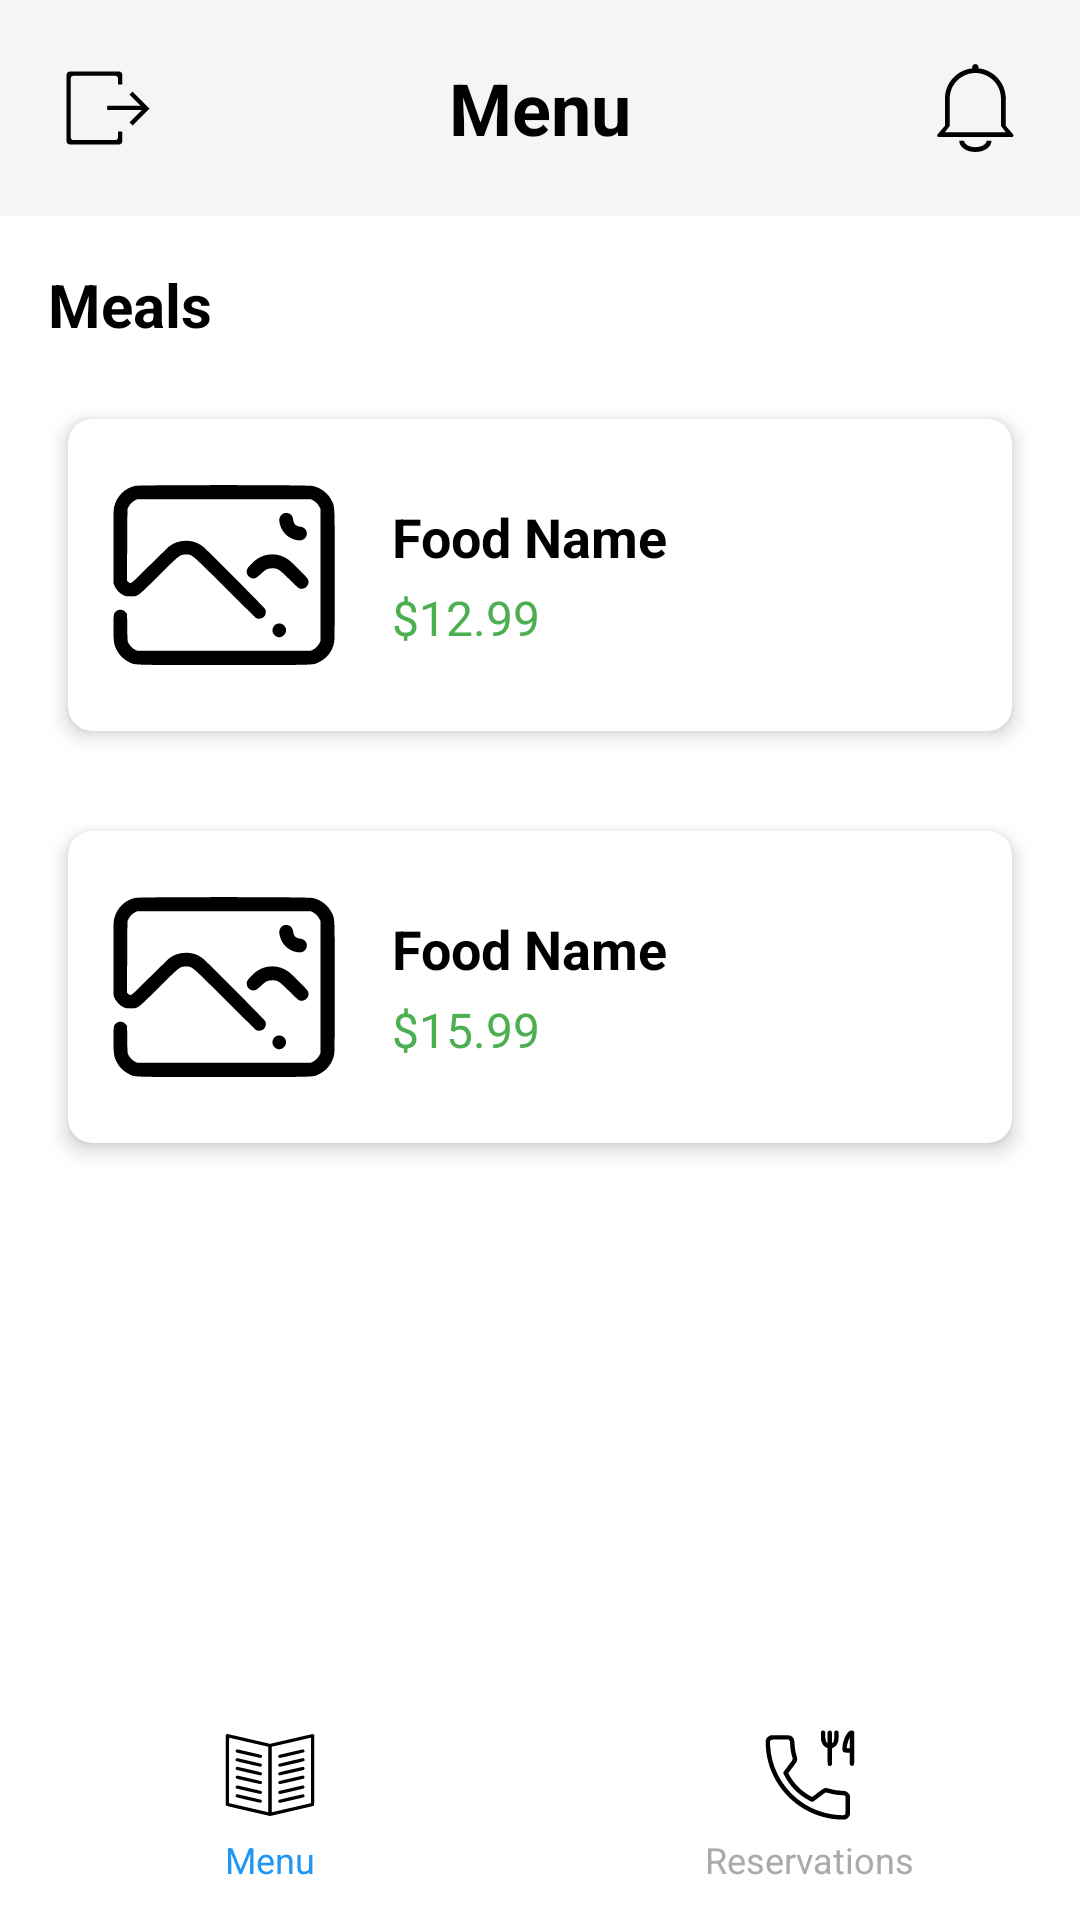

Screen size 1080x1920. Icon name, then its center in pixels as point (x, y):
Notifications: point (975, 108)
